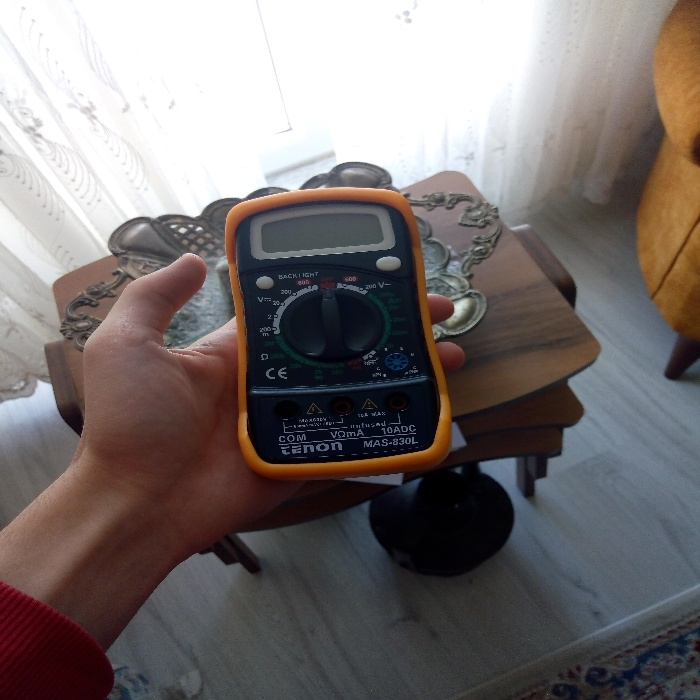multimetre: (209, 170, 454, 476)
